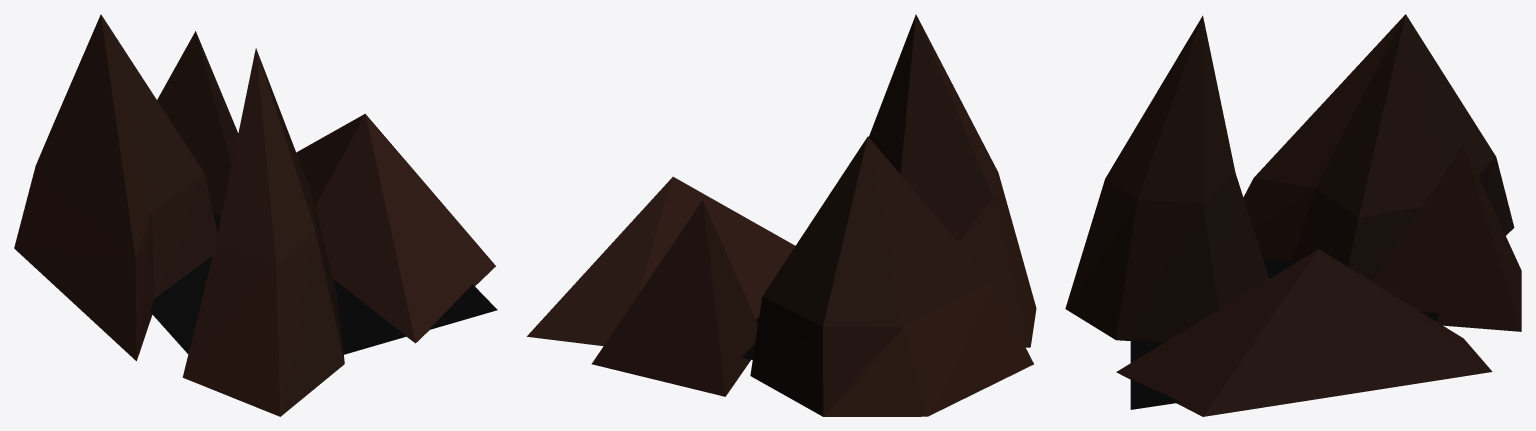
The model's file is bronze-rocks.obj.
3 renders of one model, left to right at view 1: azimuth 30°, elevation 25°; view 2: azimuth 150°, elevation 25°; view 3: azimuth 270°, elevation 25°, orthographic. The views are drawn at different scales.
Visible parts, largest first — view 1: Object Iron rocks 2026-09-12_20-57-30; view 2: Object Iron rocks 2026-09-12_20-57-30; view 3: Object Iron rocks 2026-09-12_20-57-30.
Boxes of the visible parts, bbox=[...] form: Object Iron rocks 2026-09-12_20-57-30: bbox=[14, 14, 497, 416]; Object Iron rocks 2026-09-12_20-57-30: bbox=[527, 14, 1036, 416]; Object Iron rocks 2026-09-12_20-57-30: bbox=[1065, 14, 1521, 416].
Bounding box in the file's own units: 119 × 96 × 126.
